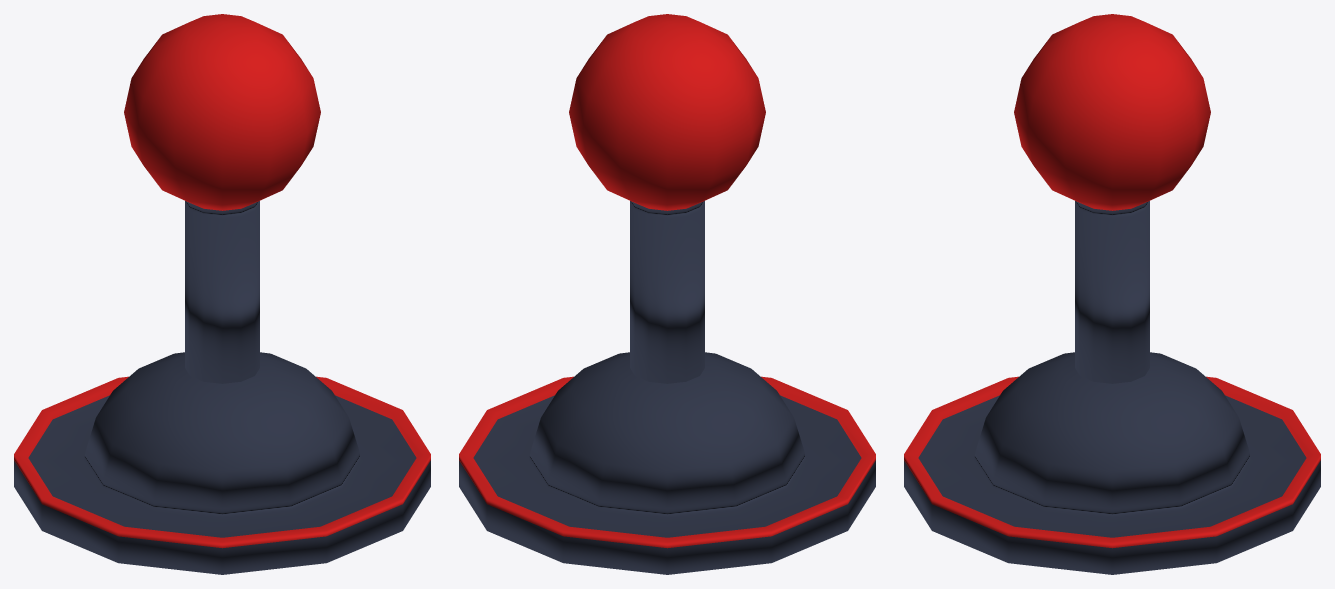
The model's file is joystickrotate .fbx.
3 views of the same model, side by side, from view 1: azimuth 30°, elevation 25°; view 2: azimuth 150°, elevation 25°; view 3: azimuth 270°, elevation 25° (orthographic).
Parts seen in each view (by area): view 1: Cylinder, Cylinder.001; view 2: Cylinder, Cylinder.001; view 3: Cylinder, Cylinder.001.
Boxes of the visible parts, left/top/right/bottom form: Cylinder: left=14, top=352, right=430, bottom=574; Cylinder.001: left=124, top=14, right=320, bottom=383; Cylinder: left=459, top=352, right=875, bottom=574; Cylinder.001: left=569, top=14, right=765, bottom=383; Cylinder: left=904, top=352, right=1320, bottom=574; Cylinder.001: left=1014, top=14, right=1210, bottom=383.
Bounding box in the file's own units: 213 × 261 × 213.
